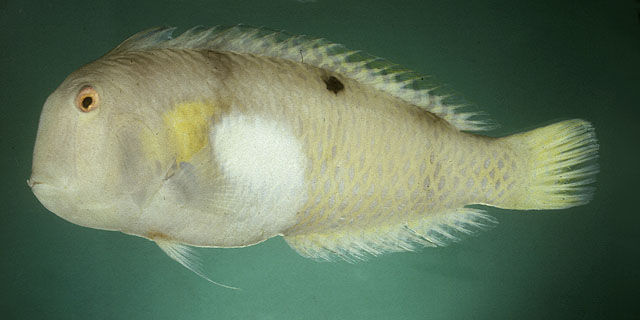fish: (30, 25, 599, 292)
